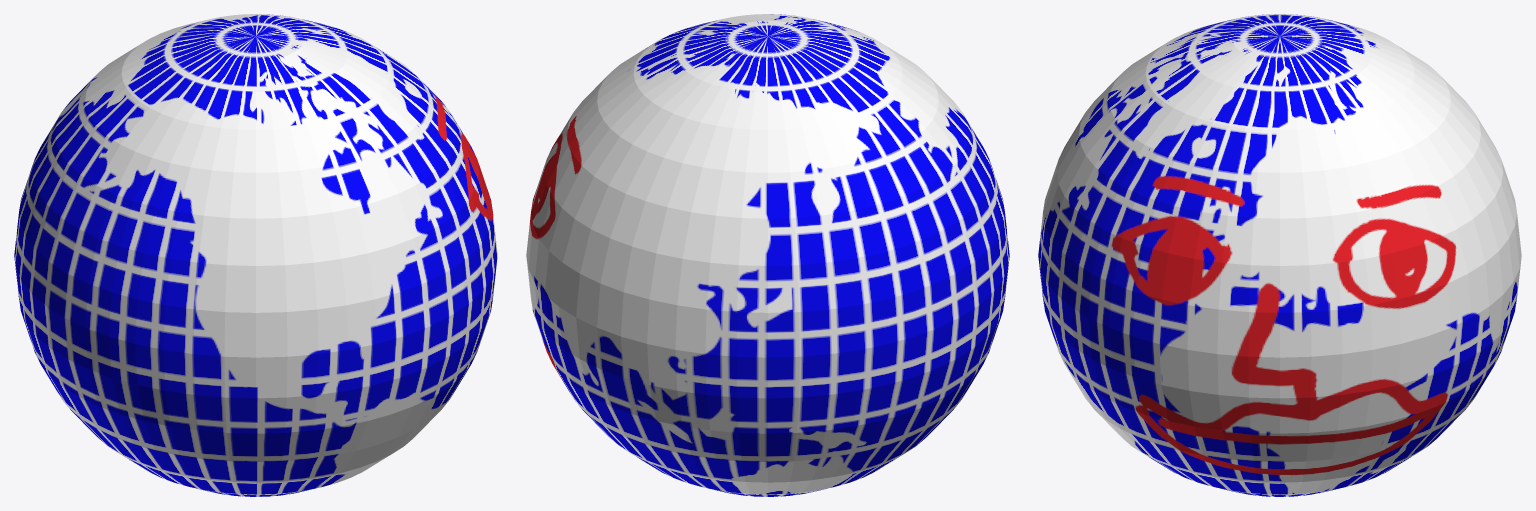
Rendered from GLOBE.glb.
3 views of the same model, side by side, from view 1: azimuth 30°, elevation 25°; view 2: azimuth 150°, elevation 25°; view 3: azimuth 270°, elevation 25° (orthographic).
Visible parts, largest first — view 1: Sphere; view 2: Sphere; view 3: Sphere.
Boxes of the visible parts, box(x1,y1,x2,y2) form: Sphere: box(14, 14, 497, 496); Sphere: box(526, 14, 1009, 496); Sphere: box(1038, 14, 1521, 496).
Size of the model in its own units: 28.66 by 28.66 by 28.66.
Materials: 1 (1 with a texture image).
